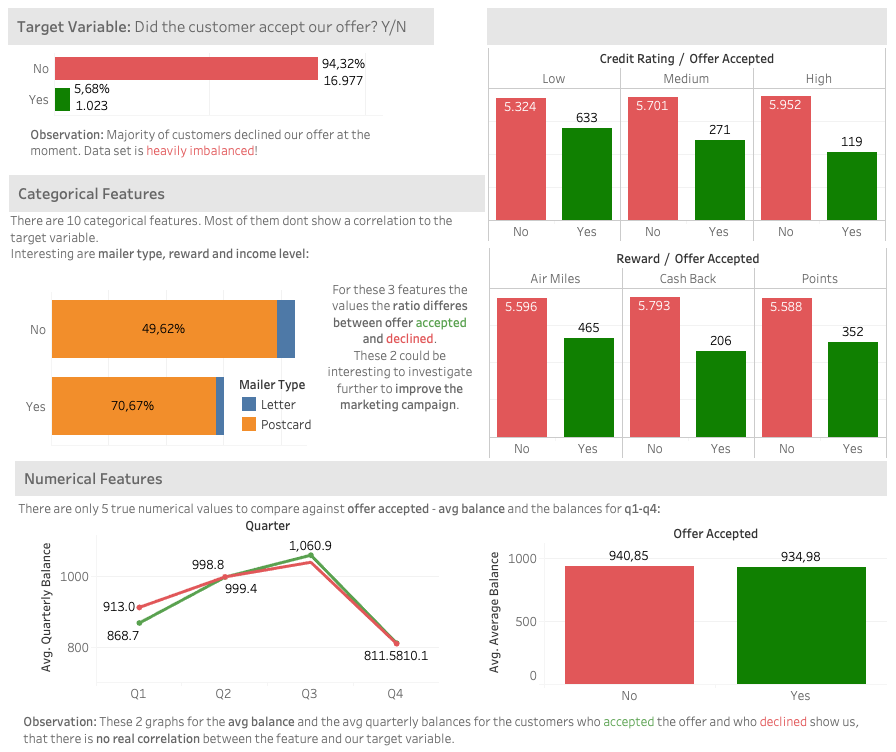

Layout of this report page (visuals, bound fields, positions):
{"tool":"tableau","page":{"name":"Task 9 - Dashboard 2","canvas":[1000,1000],"units":"permille","ordinal":1},"visuals":[{"type":"worksheet","box":[57,24.9,346.6,48.5]},{"type":"worksheet","box":[446.7,24.9,325.5,48.5]},{"type":"worksheet","title":"Task3 (DB)","mark":"Automatic","rows":["Offer Accepted"],"cols":["creditcardmarketing-bbm_7423971F8F104226967FE0CD2F8F73A4"],"box":[29.3,64.2,332.8,150.7]},{"type":"worksheet","title":"Task 7 - J deep dive","mark":"Bar","rows":["creditcardmarketing-bbm_7423971F8F104226967FE0CD2F8F73A4"],"cols":["Income Level","Offer Accepted"],"box":[447.5,76,324.7,232]},{"type":"worksheet","box":[73.2,167.8,288.9,66.8]},{"type":"worksheet","box":[57.8,243.8,387.3,48.5]},{"type":"worksheet","box":[57,292.3,391.4,66.8]},{"type":"worksheet","box":[310.8,327.7,130.2,287]},{"type":"worksheet","title":"Task 7 - I deep dive (DB)","mark":"Bar","rows":["creditcardmarketing-bbm_7423971F8F104226967FE0CD2F8F73A4"],"cols":["Reward","Offer Accepted"],"box":[448.3,339.4,324.7,276.5]},{"type":"worksheet","box":[12.2,360.4,98.5,36.7]},{"type":"worksheet","title":"Task 7B - deep dive (DB1)","mark":"Automatic","rows":["Offer Accepted"],"cols":["creditcardmarketing-bbm_7423971F8F104226967FE0CD2F8F73A4"],"box":[10.6,368.3,289.7,268.7]},{"type":"worksheet","title":"Task 7B - deep dive (DB1)","mark":"Automatic","rows":["Offer Accepted"],"cols":["creditcardmarketing-bbm_7423971F8F104226967FE0CD2F8F73A4"],"param":"[federated.09p3p5r11pkwdx1b5s76k0kxbmq4].[none:Mailer Type:nk]","box":[244.9,507.2,70,76]},{"type":"worksheet","box":[62.6,618.6,709.5,45.9]},{"type":"worksheet","box":[63.5,660.6,698.1,39.3]},{"type":"worksheet","title":"Task 10 - timeseries A (DB)","mark":"Line","rows":["Pivot Field Values"],"cols":["Pivot Field Names - Split 1"],"box":[74.9,689.4,332.8,246.4]},{"type":"worksheet","title":"Task 11 - Avg B Y/N (DB)","mark":"Bar","rows":["Average Balance"],"cols":["Offer Accepted"],"box":[439.4,699.9,332.8,237.2]}]}

Visuals, with their boxes on the dashboard's canvas, which has no fixed pixel size, in thousandths of its width and height (x1, y1, x2, y2). These are canvas units, not pixel positions in the 896x752 screenshot, which may show the page scaled, cropped or inside an application window:
worksheet: detection(57, 25, 404, 73)
worksheet: detection(447, 25, 772, 73)
"Task3 (DB)" worksheet: detection(29, 64, 362, 215)
"Task 7 - J deep dive" worksheet (Bar marks): detection(448, 76, 772, 308)
worksheet: detection(73, 168, 362, 235)
worksheet: detection(58, 244, 445, 292)
worksheet: detection(57, 292, 448, 359)
worksheet: detection(311, 328, 441, 615)
"Task 7 - I deep dive (DB)" worksheet (Bar marks): detection(448, 339, 773, 616)
worksheet: detection(12, 360, 111, 397)
"Task 7B - deep dive (DB1)" worksheet: detection(11, 368, 300, 637)
"Task 7B - deep dive (DB1)" worksheet: detection(245, 507, 315, 583)
worksheet: detection(63, 619, 772, 664)
worksheet: detection(64, 661, 762, 700)
"Task 10 - timeseries A (DB)" worksheet (Line marks): detection(75, 689, 408, 936)
"Task 11 - Avg B Y/N (DB)" worksheet (Bar marks): detection(439, 700, 772, 937)
